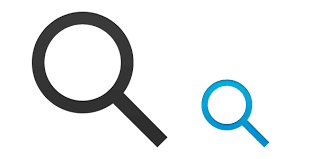searchIcon: (31, 11, 167, 147), (199, 78, 269, 149)
